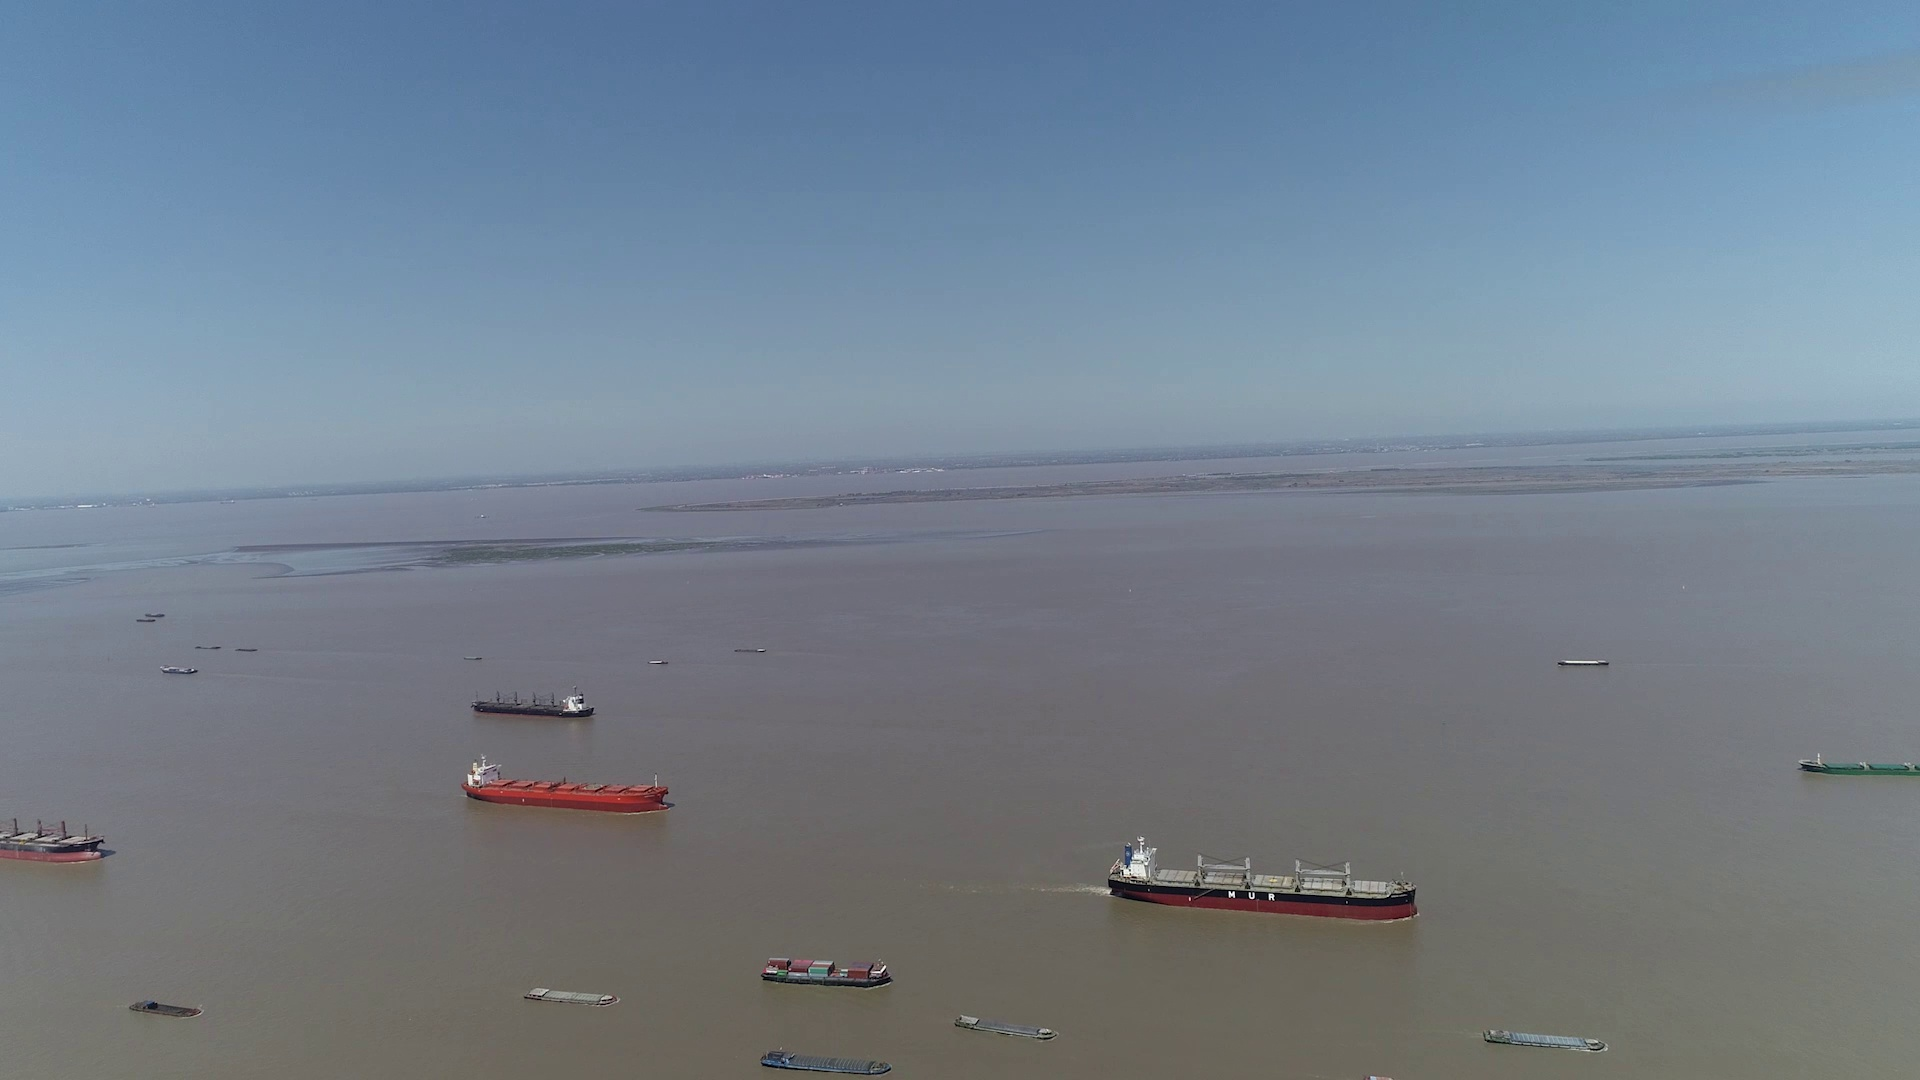ship: (1112, 836, 1418, 922), (463, 752, 669, 814), (3, 804, 109, 862), (760, 957, 890, 988), (760, 1047, 895, 1075), (472, 688, 595, 719), (1797, 752, 1920, 775), (1484, 1029, 1606, 1052), (953, 1015, 1058, 1040), (524, 985, 616, 1006), (127, 1000, 202, 1017), (1556, 658, 1609, 667), (161, 663, 196, 674)
